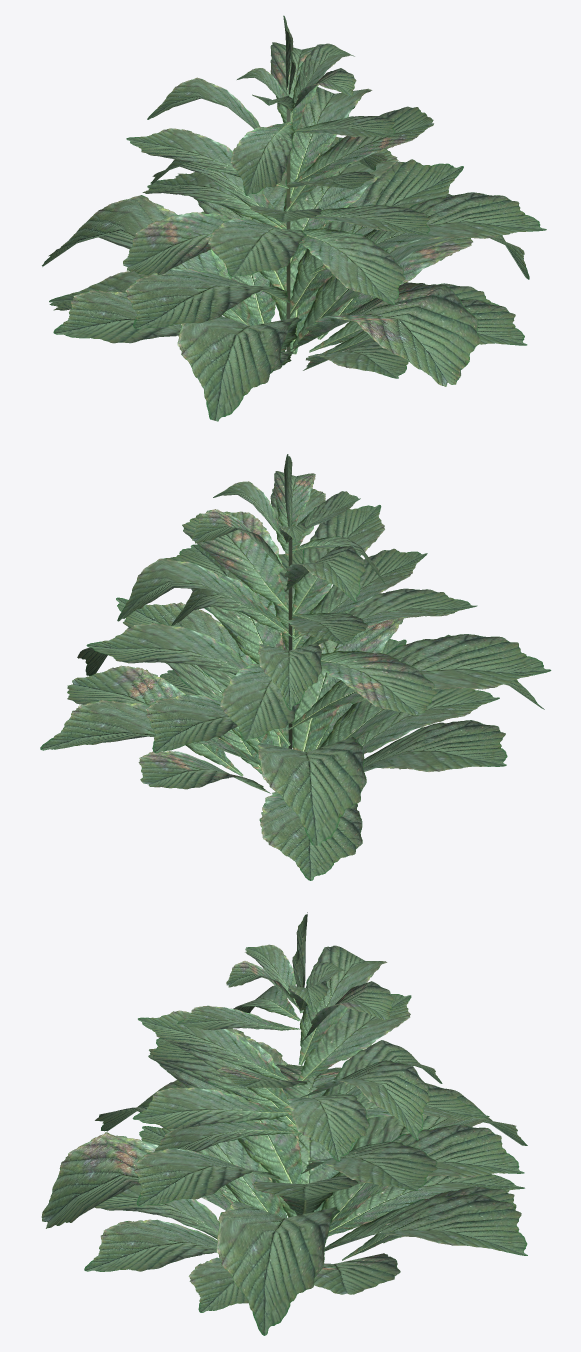
Rendered from PW_Plant_Bush_01_06.fbx.
The picture shows the model from 3 angles, top to bottom: view 1: azimuth 30°, elevation 25°; view 2: azimuth 150°, elevation 25°; view 3: azimuth 270°, elevation 25°; orthographic projection. The views are drawn at different scales.
Visible parts, largest first — view 1: PW_Plants_Bushes_06_LOD0; view 2: PW_Plants_Bushes_06_LOD0; view 3: PW_Plants_Bushes_06_LOD0.
Part boxes in pixels (bbox=[...]): PW_Plants_Bushes_06_LOD0: bbox=[42, 15, 546, 421]; PW_Plants_Bushes_06_LOD0: bbox=[40, 454, 551, 880]; PW_Plants_Bushes_06_LOD0: bbox=[41, 912, 527, 1335].
Size of what is drawn, in the model's own units: 96.87 by 66.54 by 94.95.
